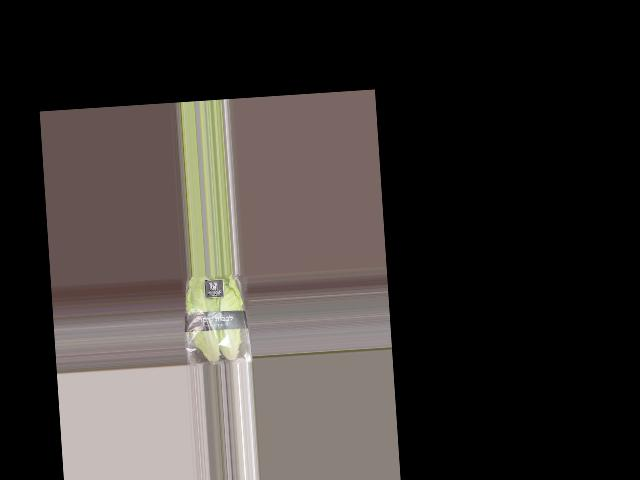lettuce: (185, 274, 252, 366)
